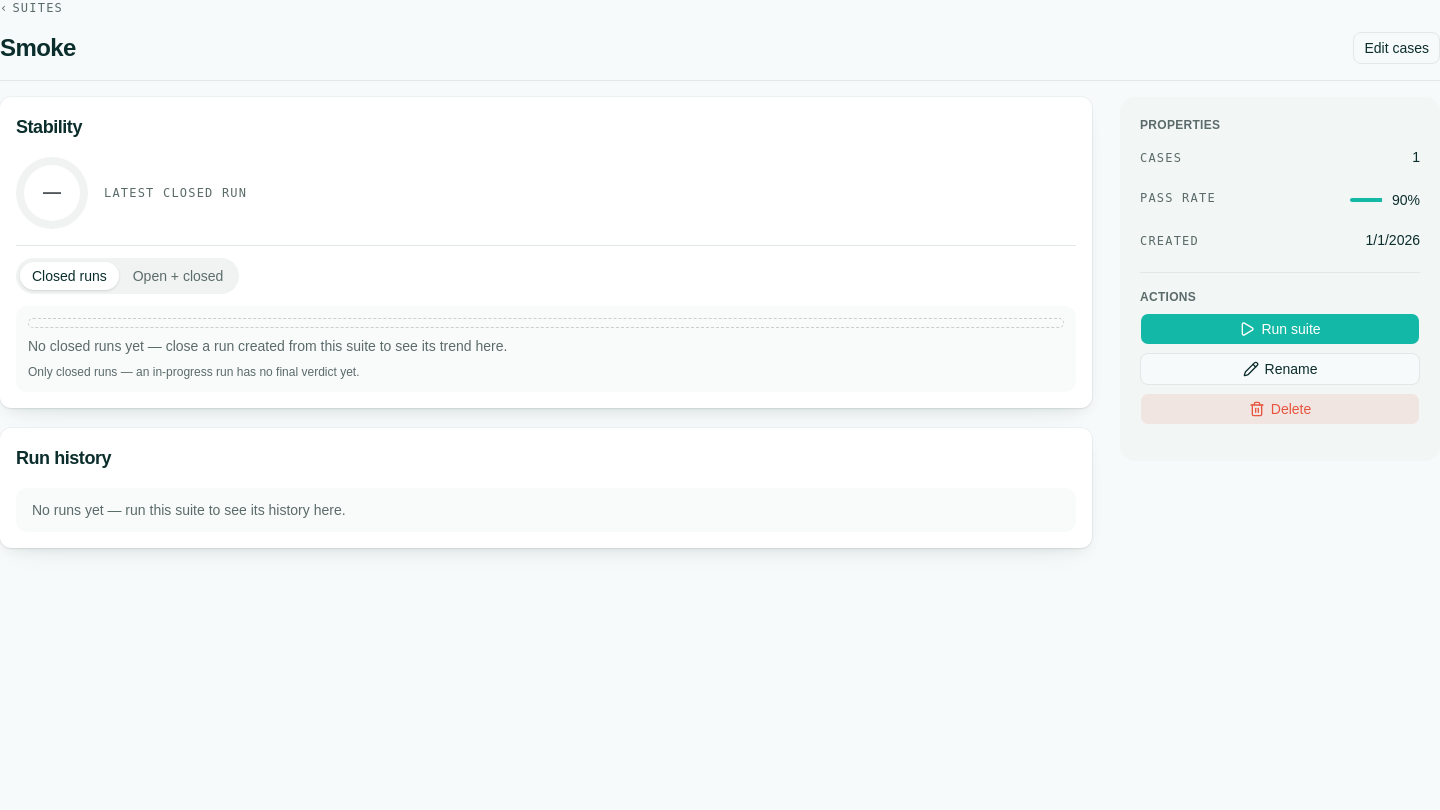
Scenario: SuiteDetailPage › shows a confirmation toast naming the new run, with a link to it, after Run suite
Click the button "Run suite" at {"x": 1280, "y": 329}, box x1=1140 y1=313 x2=1420 y2=345
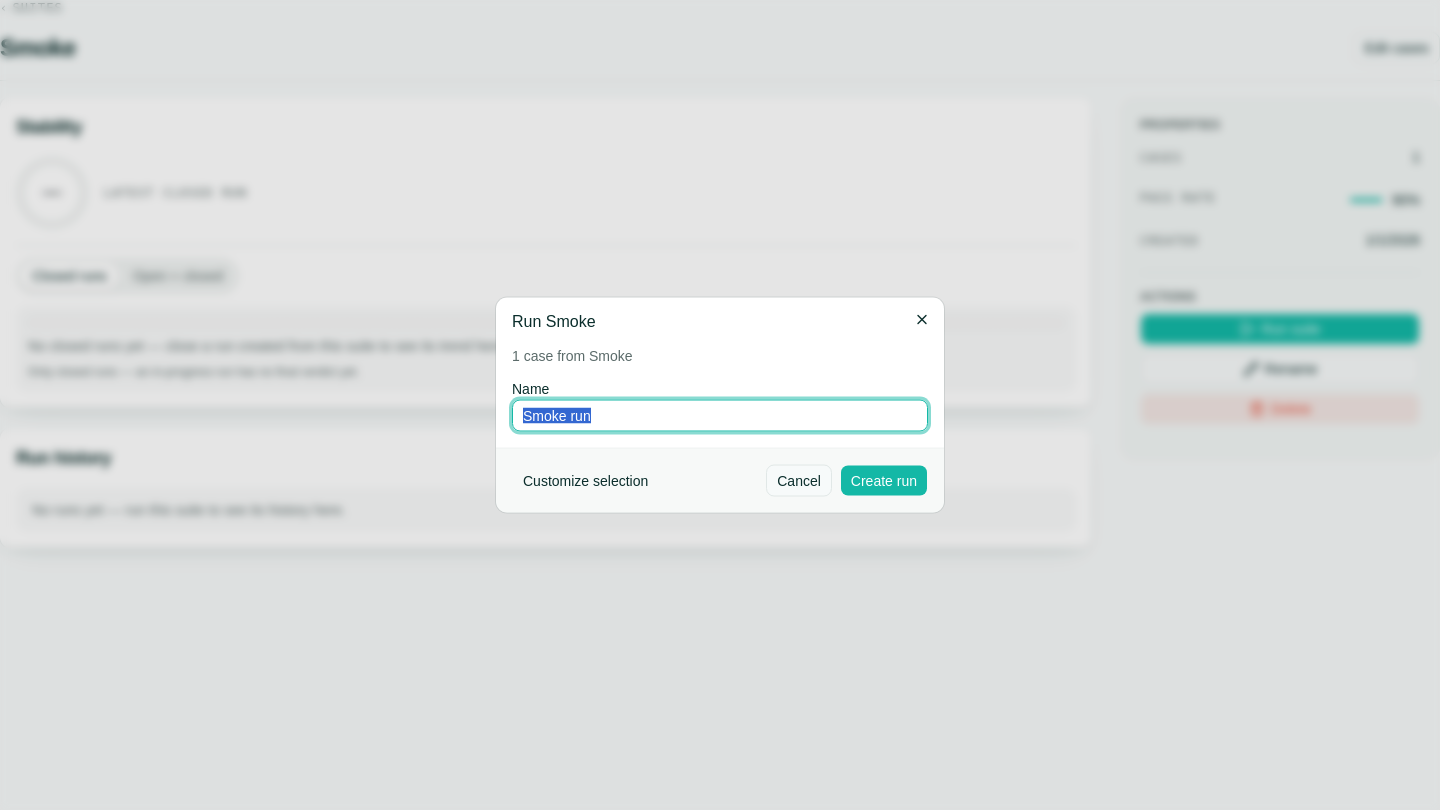
Click the button "Create run" at {"x": 884, "y": 480}, box x1=840 y1=464 x2=928 y2=496
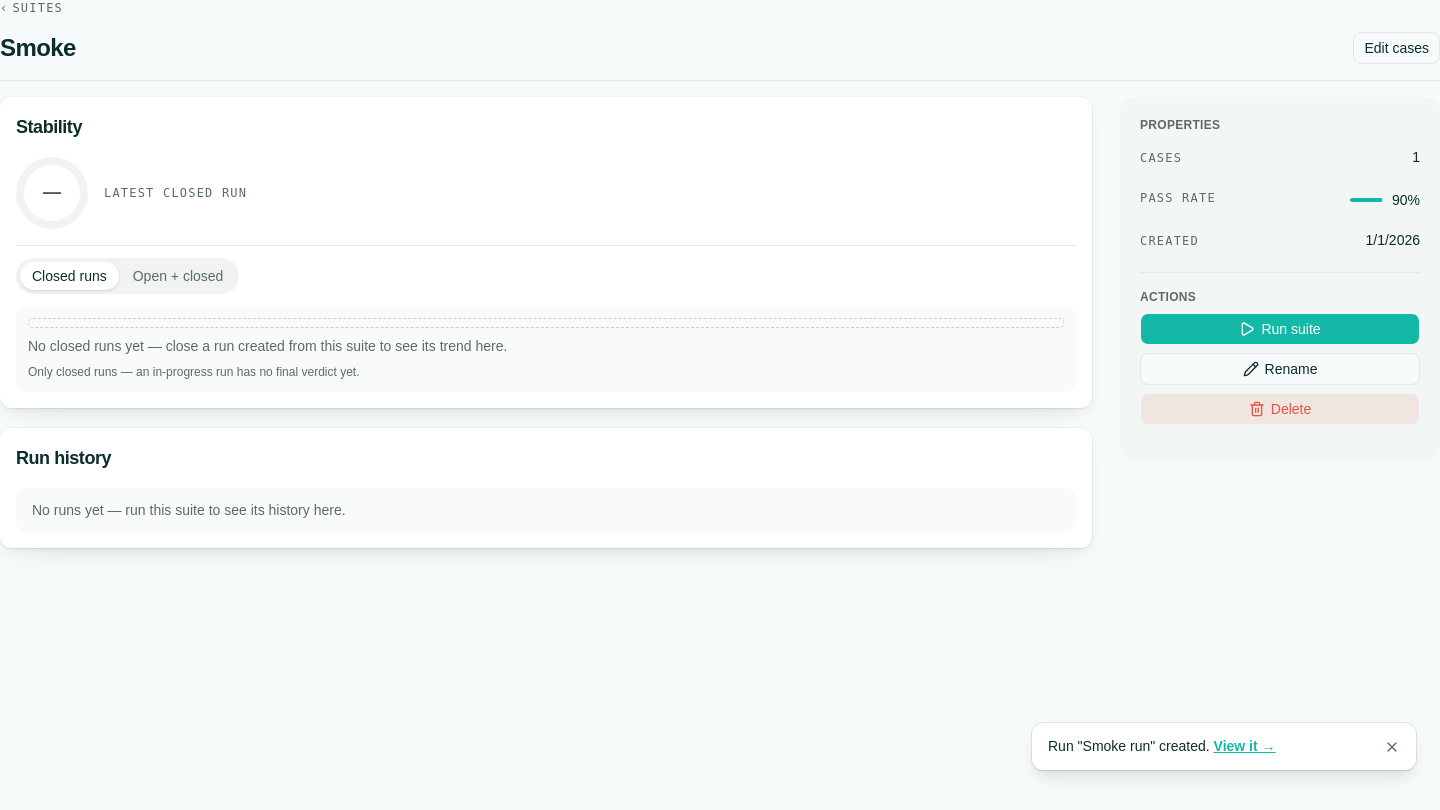
expect the text "Run \"Smoke run\" created." is shown: met, box x1=1048 y1=738 x2=1210 y2=754
